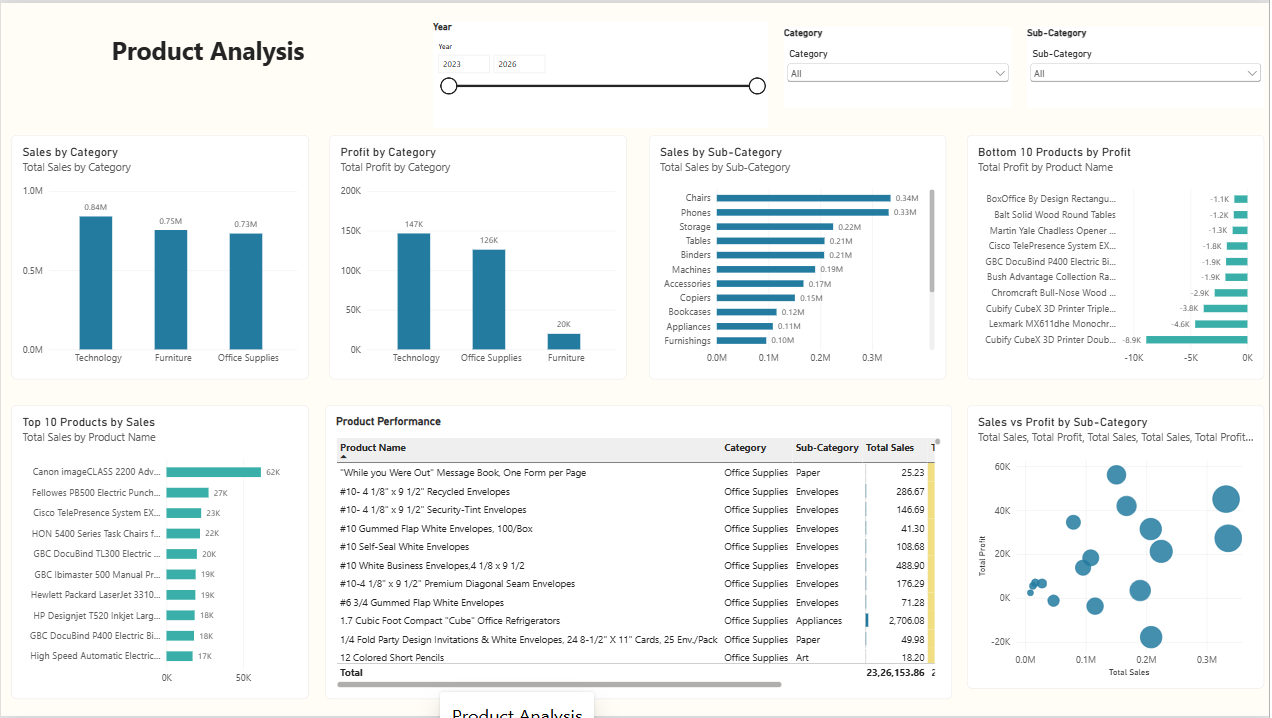

The dashboard page shown, as its layout file describes it:
{"tool":"powerbi","page":{"name":"Product Analysis","canvas":[1920,1080],"ordinal":1},"visuals":[{"type":"clusteredColumnChart","title":"Sales by Category","fields":{"Category":["Orders.Category"],"Y":["Orders.Total Sales"]},"box":[15.9,199.9,450,370],"z":0},{"type":"clusteredColumnChart","title":"Profit by Category","fields":{"Category":["Orders.Category"],"Y":["Orders.Total Profit"]},"box":[498.2,199.9,450,370],"z":1000},{"type":"barChart","title":"Sales by Sub-Category","fields":{"Category":["Orders.Sub-Category"],"Y":["Orders.Total Sales"]},"box":[980.4,199.9,450,370],"z":2000},{"type":"barChart","title":"Top 10 Products by Sales","fields":{"Category":["Orders.Product Name"],"Y":["Orders.Total Sales"]},"box":[15.9,608.7,449.7,445.2],"z":3000},{"type":"barChart","title":"Bottom 10 Products by Profit","fields":{"Category":["Orders.Product Name"],"Y":["Orders.Total Profit"]},"box":[1462.7,199.9,450,370],"z":4000},{"type":"tableEx","title":"Product Performance","fields":{"Values":["Orders.Product Name","Orders.Category","Orders.Sub-Category","Orders.Total Sales","Orders.Total Profit","Orders.Total Quantity","Orders.Profit Margin %"]},"box":[490.6,608.7,949.4,445.2],"z":5000},{"type":"scatterChart","title":"Sales vs Profit by Sub-Category","fields":{"X":["Orders.Total Sales"],"Y":["Orders.Total Profit"],"Size":["Orders.Total Sales"],"Category":["Orders.Sub-Category"]},"box":[1462.7,608.7,449.7,429.3],"z":6000},{"type":"slicer","title":"Year","fields":{"Values":["DateTable.Year"]},"box":[654.1,27.3,506.5,161.3],"z":7000},{"type":"slicer","title":"Category","fields":{"Values":["Orders.Category"]},"box":[1185.6,36.3,345.2,122.7],"z":8000},{"type":"slicer","title":"Sub-Category","fields":{"Values":["Orders.Sub-Category"]},"box":[1553.6,36.3,358.9,122.7],"z":9000},{"type":"textbox","box":[15.9,27.3,595.1,90.9],"z":10000}]}

Visuals, with their boxes in screenshot pixels (x1, y1, x2, y2), scaled from the page's 1920x1080 canvas onto the 1272x718 screenshot:
"Sales by Category" clusteredColumnChart: <box>11,133,309,379</box>
"Profit by Category" clusteredColumnChart: <box>330,133,628,379</box>
"Sales by Sub-Category" barChart: <box>650,133,948,379</box>
"Top 10 Products by Sales" barChart: <box>11,405,308,701</box>
"Bottom 10 Products by Profit" barChart: <box>969,133,1267,379</box>
"Product Performance" tableEx: <box>325,405,954,701</box>
"Sales vs Profit by Sub-Category" scatterChart: <box>969,405,1267,690</box>
"Year" slicer: <box>433,18,769,125</box>
"Category" slicer: <box>785,24,1014,106</box>
"Sub-Category" slicer: <box>1029,24,1267,106</box>
textbox: <box>11,18,405,79</box>
